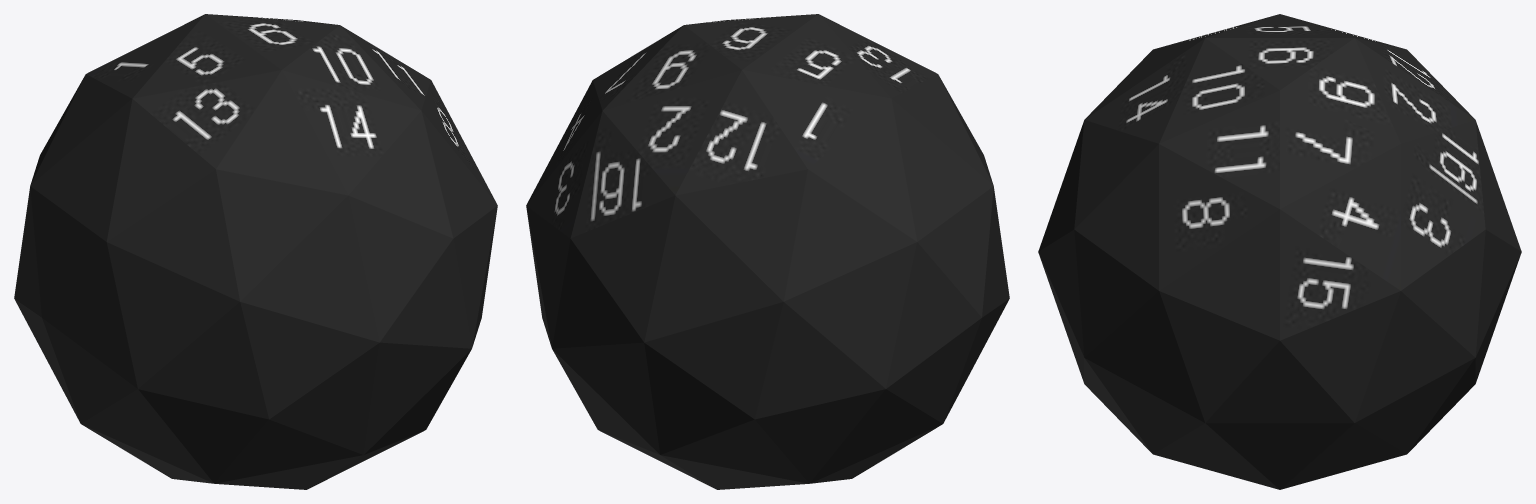
Rendered from sphereKeyboard0.fbx.
3 renders of one model, left to right at view 1: azimuth 30°, elevation 25°; view 2: azimuth 150°, elevation 25°; view 3: azimuth 270°, elevation 25°, orthographic. The views are drawn at different scales.
Parts seen in each view (by area): view 1: Icosphere.001; view 2: Icosphere.001; view 3: Icosphere.001.
Part boxes in pixels (x1,y1,x2,y2): Icosphere.001: [14, 14, 497, 489]; Icosphere.001: [526, 14, 1009, 489]; Icosphere.001: [1038, 14, 1521, 489].
Bounding box in the file's own units: 2 × 1.9 × 2.
Materials: 1 (1 with a texture image).
